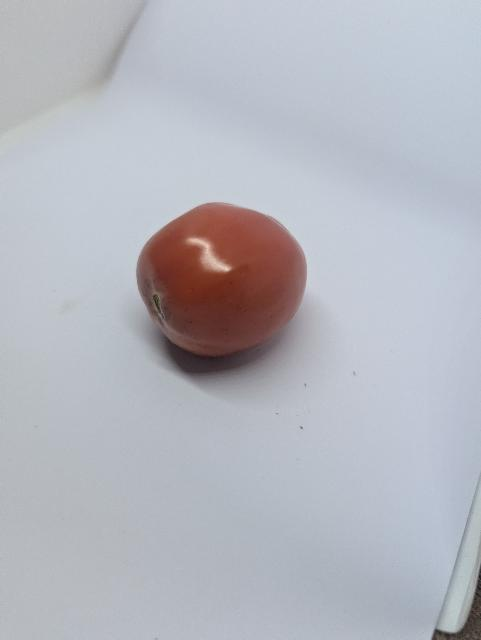red: (133, 199, 314, 379)
